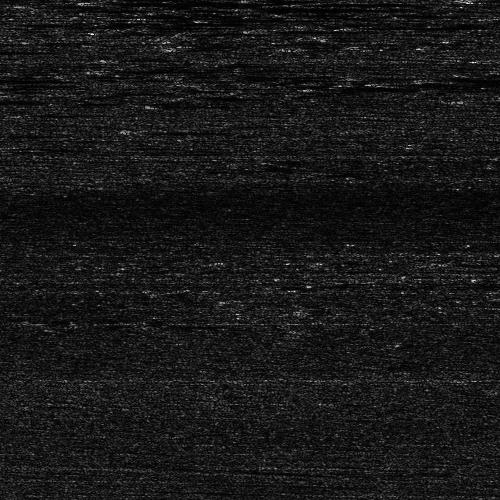rock: (428, 93, 500, 106), (86, 0, 127, 7), (400, 77, 453, 82), (232, 26, 273, 29), (443, 0, 496, 2)
shadow: (107, 0, 224, 7), (427, 77, 500, 82), (253, 26, 373, 29)
